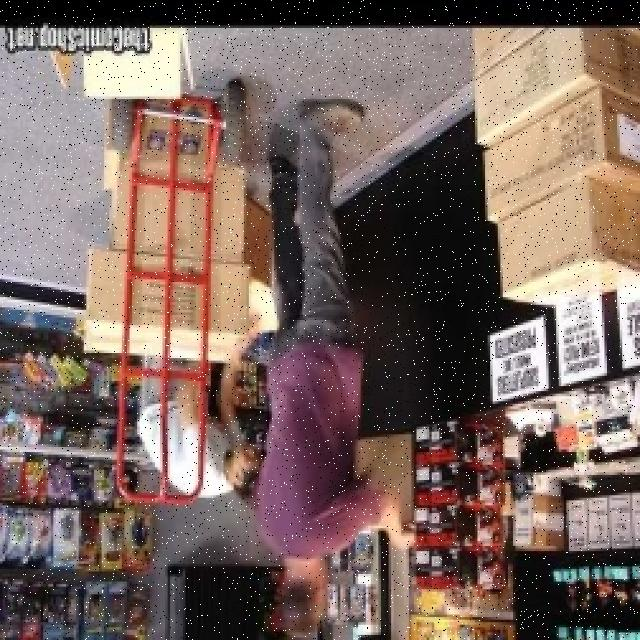box: (75, 260, 244, 382), (460, 107, 640, 216), (15, 0, 198, 102), (483, 200, 633, 324), (450, 36, 640, 122), (94, 174, 248, 278), (84, 110, 256, 187)
